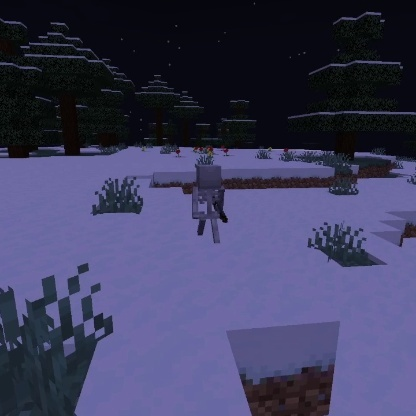skeleton: (189, 161, 231, 246)
